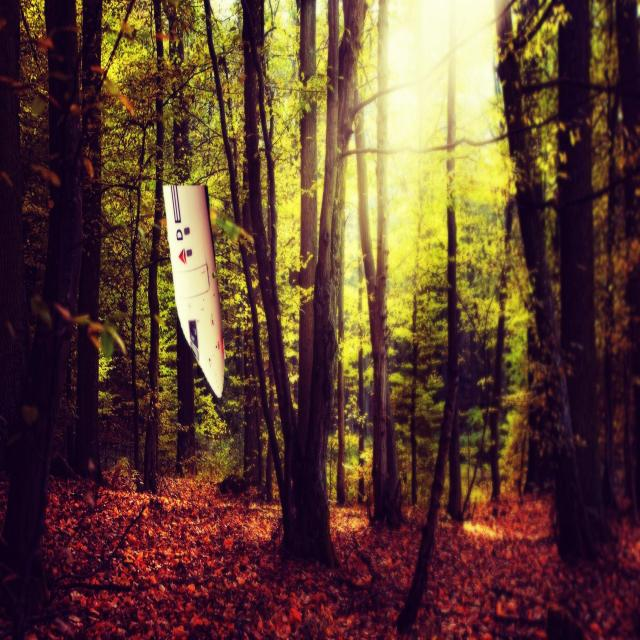airplane: (163, 184, 225, 398)
